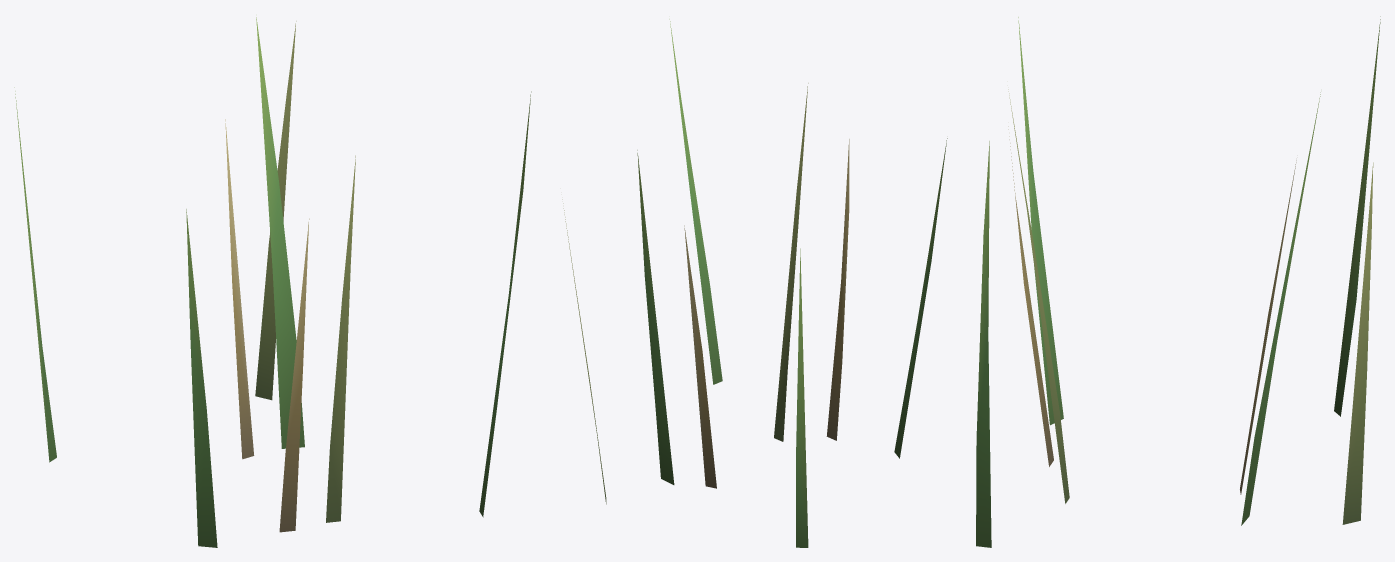
Rendered from SparseField_LOD1.glb.
The picture shows the model from 3 angles, left to right: view 1: azimuth 30°, elevation 25°; view 2: azimuth 150°, elevation 25°; view 3: azimuth 270°, elevation 25°; orthographic projection. The views are drawn at different scales.
Parts seen in each view (by area): view 1: SparseField_LOD1; view 2: SparseField_LOD1; view 3: SparseField_LOD1.
Part boxes in pixels (bbox=[...]): SparseField_LOD1: bbox=[14, 17, 531, 547]; SparseField_LOD1: bbox=[562, 19, 947, 547]; SparseField_LOD1: bbox=[976, 16, 1380, 547].
Size of the model in its own units: 0.2131 by 0.2571 by 0.2102.
